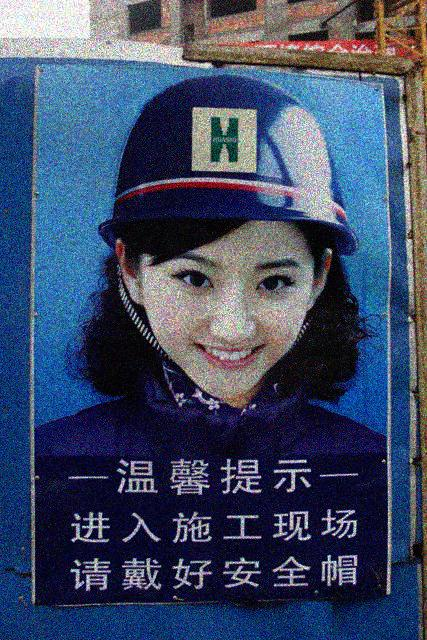helmet: (96, 73, 362, 405)
